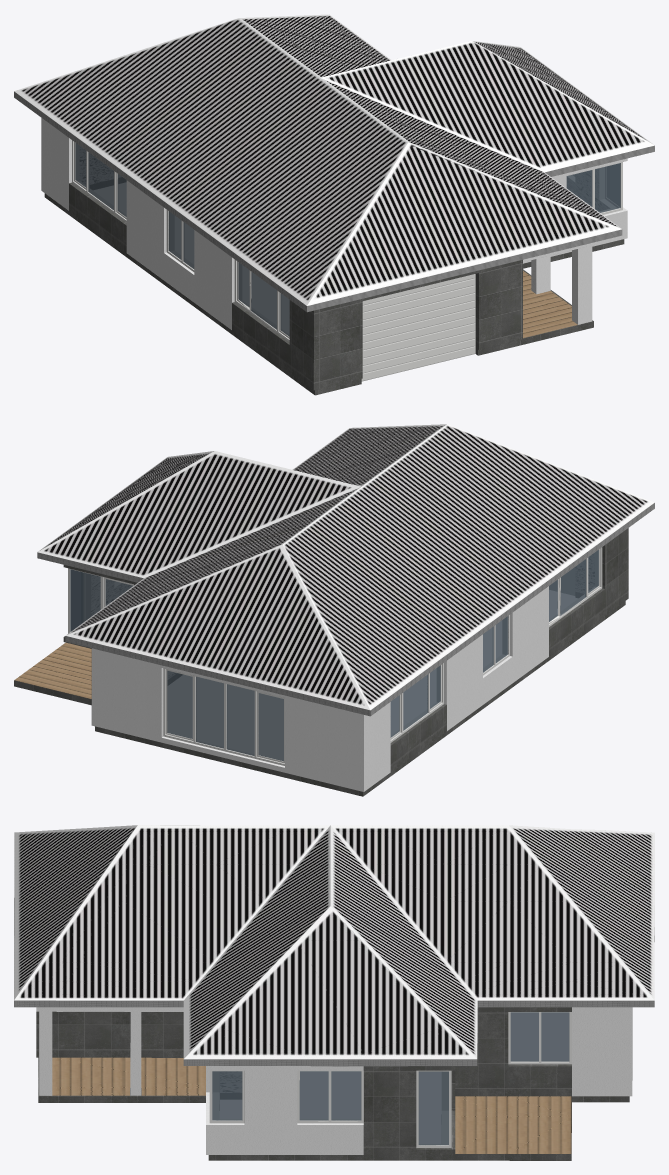
Rendered from house_3.glb.
3 renders of one model, top to bottom at view 1: azimuth 30°, elevation 25°; view 2: azimuth 150°, elevation 25°; view 3: azimuth 270°, elevation 25°, orthographic. The views are drawn at different scales.
Visible parts, largest first — view 1: house_3; view 2: house_3; view 3: house_3.
Part boxes in pixels (box(x1,y1,x2,y2)): house_3: box(14, 14, 654, 395); house_3: box(14, 424, 654, 796); house_3: box(14, 825, 654, 1160).
Bounding box in the file's own units: 12.9 × 5.39 × 15.4.
Materials: 8 (6 with a texture image).
